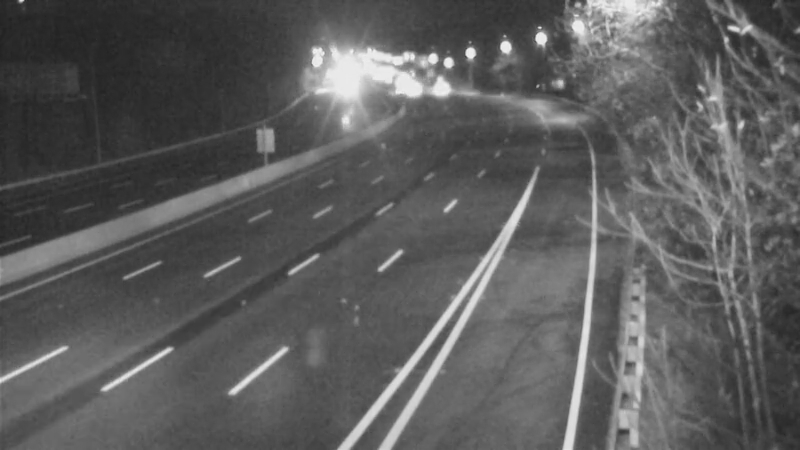vehicle: (409, 63, 459, 113), (369, 67, 419, 117), (388, 66, 438, 116)
